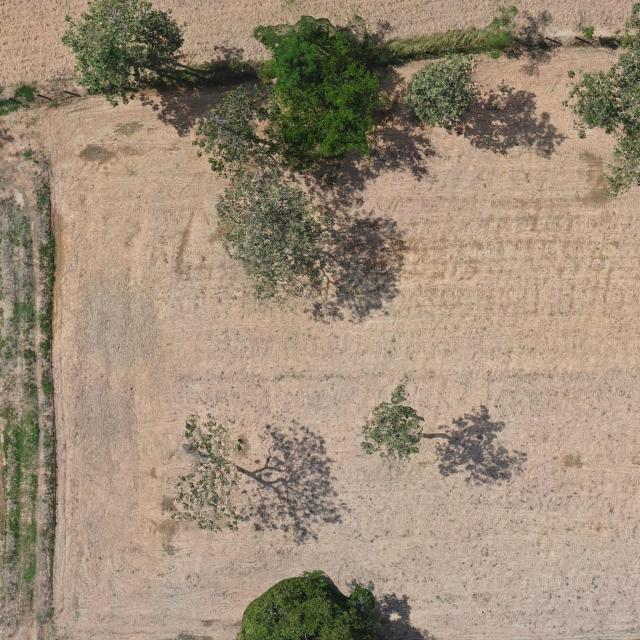tree: (251, 14, 395, 175), (214, 168, 338, 307), (559, 0, 640, 199), (59, 0, 186, 110), (235, 567, 377, 640), (168, 411, 248, 535), (191, 83, 287, 180), (402, 49, 479, 130), (359, 384, 425, 464)
